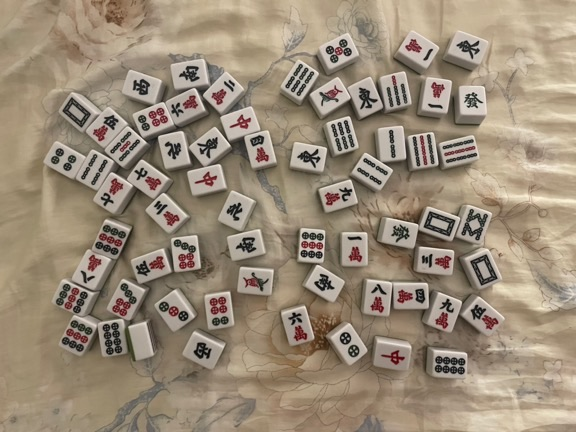b-1: (316, 84, 343, 107), (242, 271, 270, 293)
b-2: (385, 129, 399, 159)
b-4: (356, 156, 389, 187), (80, 154, 108, 186)
b-5: (110, 131, 140, 162)
b-6: (284, 63, 314, 97), (330, 118, 356, 151)
b-7: (385, 74, 408, 108)
b-8: (461, 208, 488, 241)
b-9: (442, 138, 479, 164), (411, 133, 437, 168)
c-1: (404, 37, 434, 62), (346, 234, 364, 264), (427, 81, 446, 109)
c-2: (210, 80, 236, 106)
c-3: (153, 200, 180, 227), (421, 253, 452, 272)
c-4: (395, 286, 425, 306), (250, 135, 270, 164)
c-5: (470, 304, 499, 332), (92, 114, 119, 142), (135, 256, 167, 278)
c-6: (287, 312, 310, 342), (170, 94, 198, 118)
c-7: (99, 178, 124, 207), (134, 166, 162, 191)
c-8: (80, 255, 102, 284), (367, 283, 388, 313)
c-9: (434, 298, 455, 329), (323, 186, 354, 207)
d-2: (339, 331, 360, 358)
d-4: (49, 148, 77, 172), (158, 301, 189, 322)
d-5: (324, 39, 352, 62)
d-6: (138, 107, 169, 131), (207, 297, 229, 326)
d-7: (111, 283, 137, 316), (173, 239, 197, 269)
d-8: (102, 321, 123, 357), (434, 355, 466, 375)
d-9: (61, 320, 93, 353), (95, 224, 127, 255), (56, 284, 88, 314), (301, 232, 324, 260)
honors-east: (355, 86, 378, 113), (195, 135, 220, 159), (454, 38, 481, 59), (296, 147, 321, 169), (192, 341, 213, 361)
honors-green: (389, 223, 412, 243), (463, 91, 483, 112)
honors-north: (163, 140, 183, 161), (226, 202, 244, 222)
honors-red: (380, 347, 407, 367), (229, 113, 252, 132), (193, 171, 217, 187)
honors-south: (177, 64, 201, 84), (314, 273, 334, 295), (235, 236, 258, 254)
honors-west: (131, 78, 151, 97)
honors-white: (470, 254, 498, 287), (62, 97, 91, 128), (423, 210, 456, 236)
